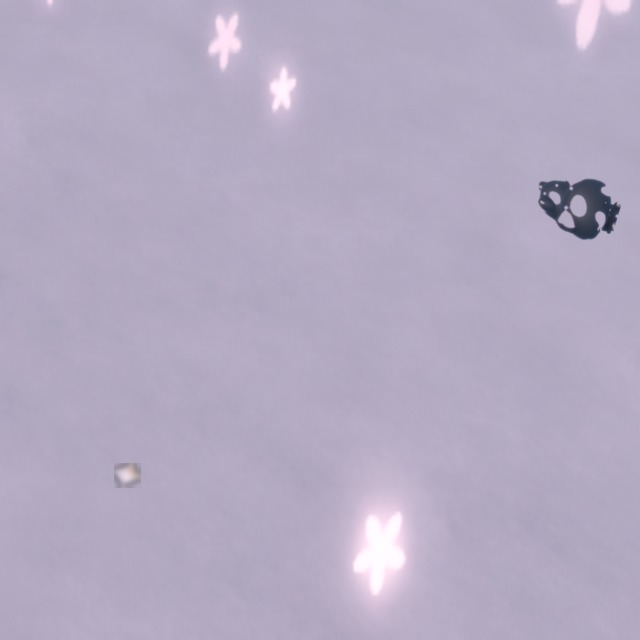urso_branco: (114, 463, 141, 488)
urso_preto: (521, 157, 628, 250)
